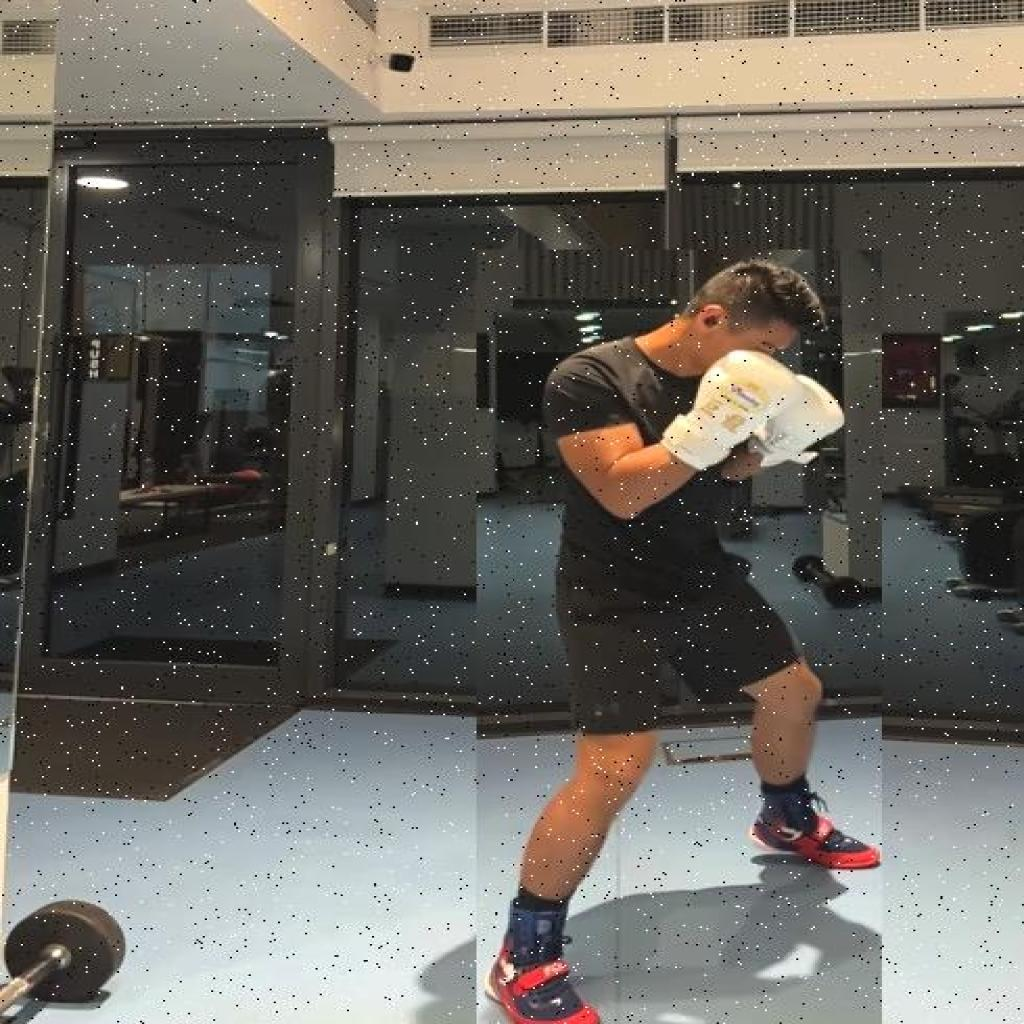no punch: (476, 250, 881, 1023)
